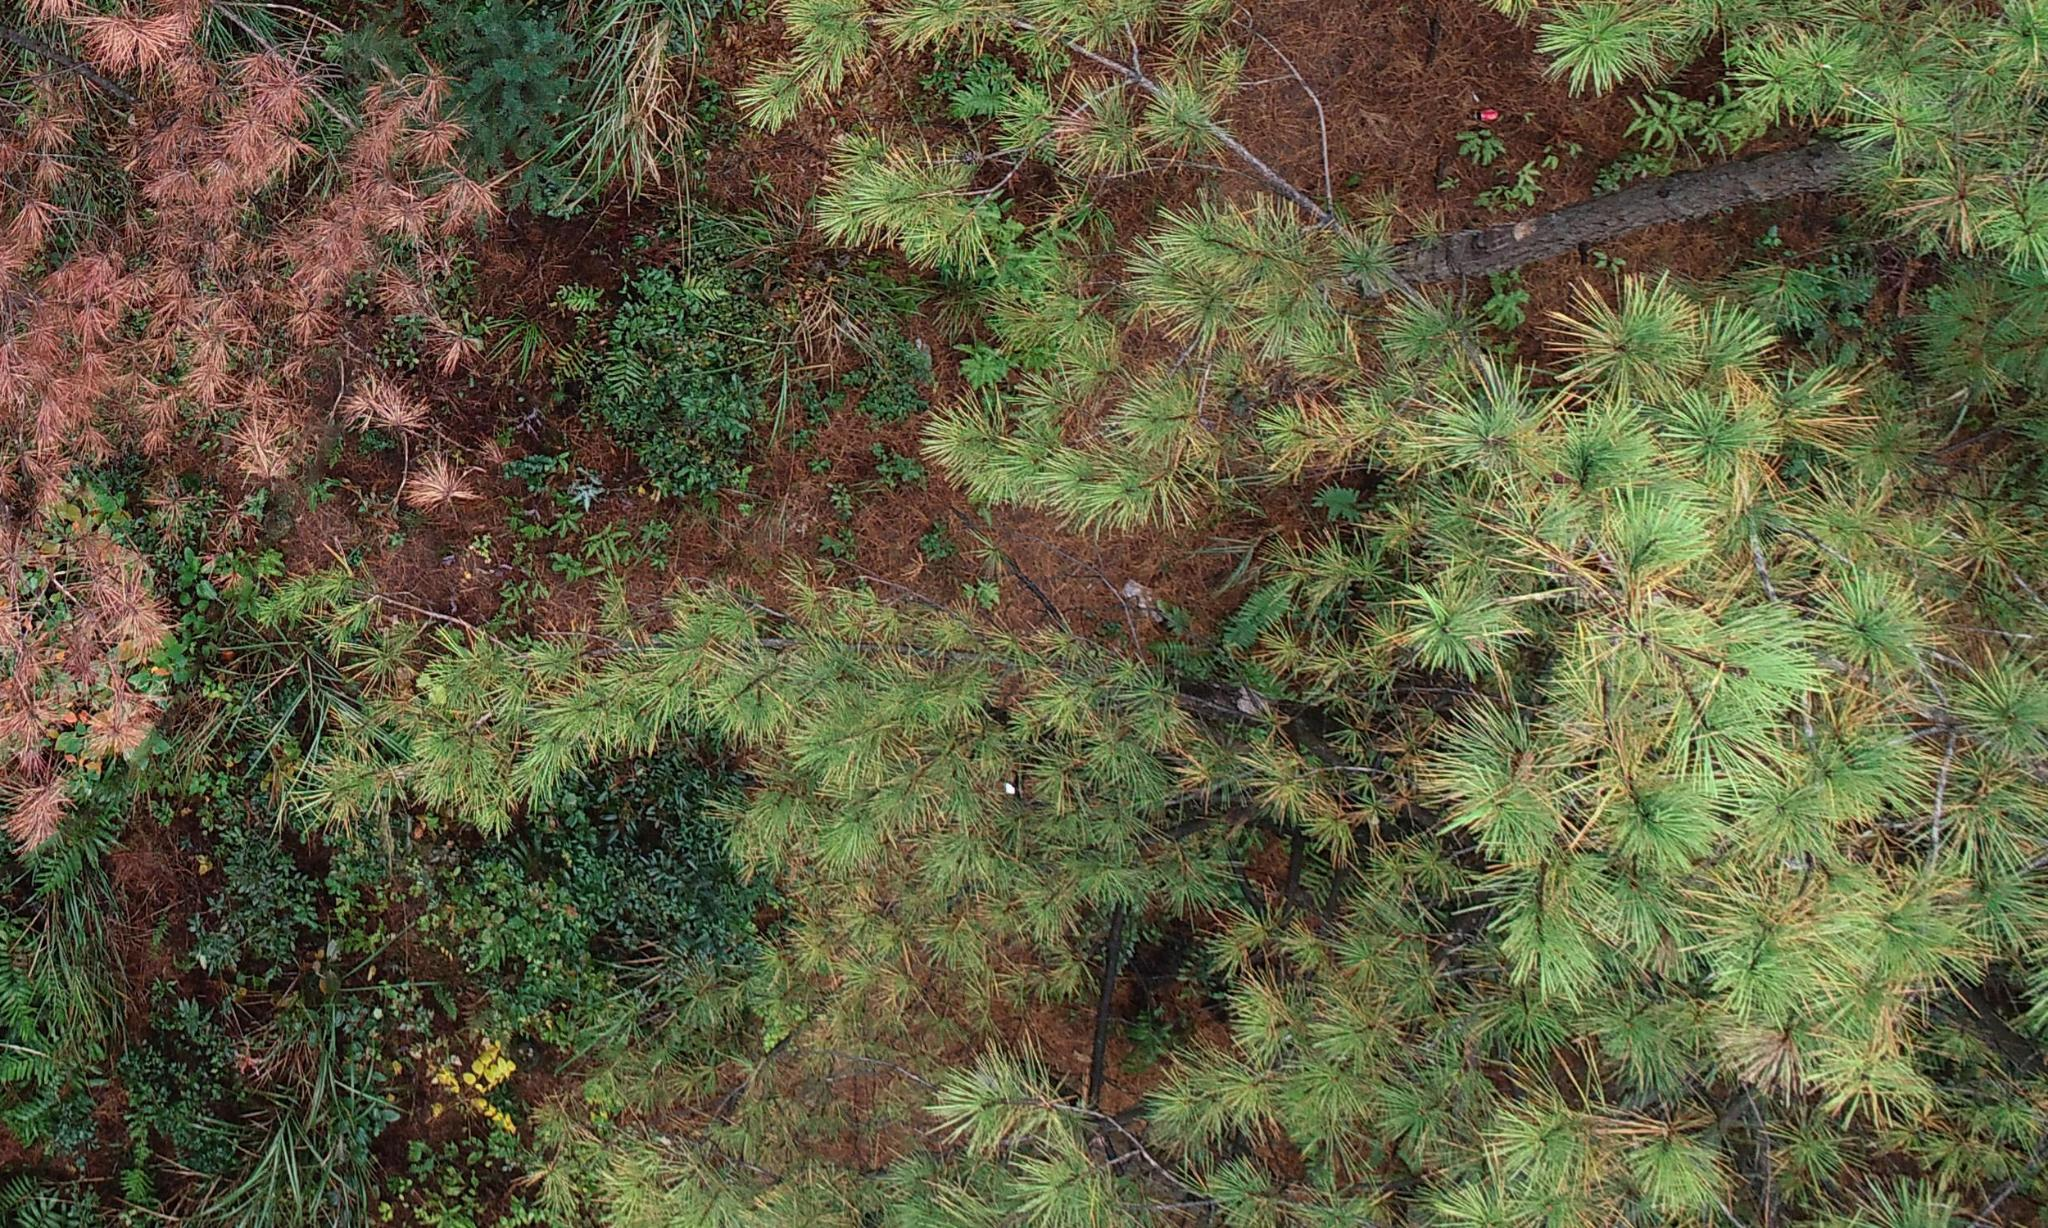heavy: (9, 13, 477, 858)
light: (1418, 259, 2011, 1189), (557, 573, 1339, 1070), (769, 26, 1355, 515)
